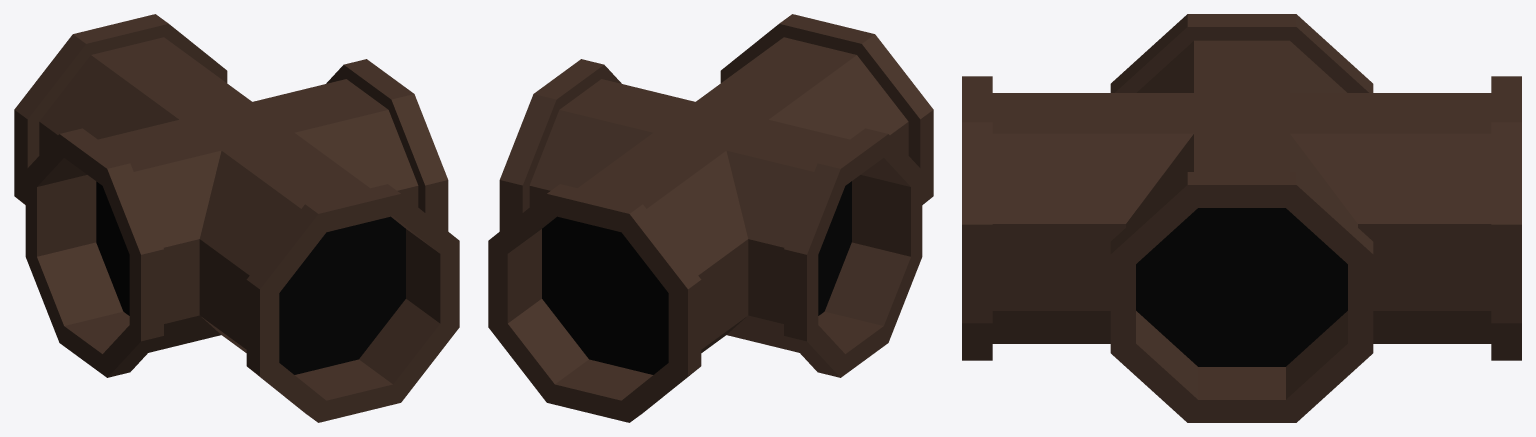
The model's file is 4Way.fbx.
The picture shows the model from 3 angles, left to right: view 1: azimuth 30°, elevation 25°; view 2: azimuth 150°, elevation 25°; view 3: azimuth 270°, elevation 25°; orthographic projection. The views are drawn at different scales.
Visible parts, largest first — view 1: Cylinder.011; view 2: Cylinder.011; view 3: Cylinder.011.
Part boxes in pixels (x1,y1,x2,y2): Cylinder.011: (14, 14, 459, 422); Cylinder.011: (488, 14, 933, 422); Cylinder.011: (962, 14, 1521, 422).
Size of the model in its own units: 56.47 by 36.71 by 78.19.
